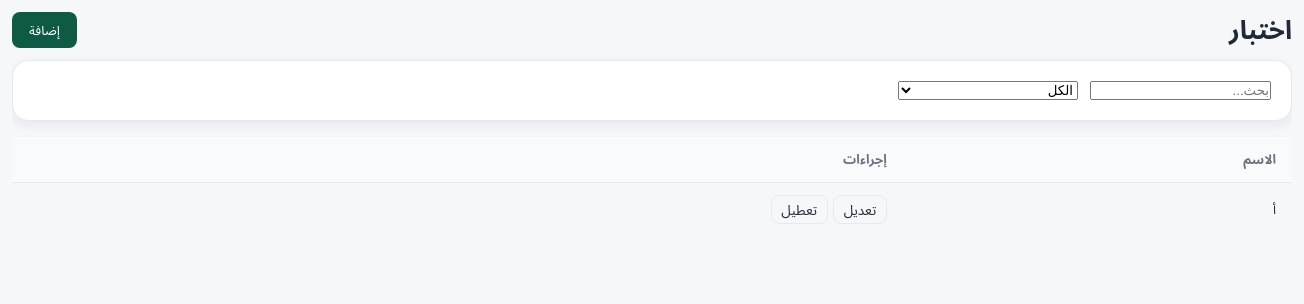
it: ReferenceDataPage › clears page error when opening edit
The width and height of the screenshot is (1304, 304).
Click the button "تعطيل".
click(799, 210)  # box [771,195,828,224]
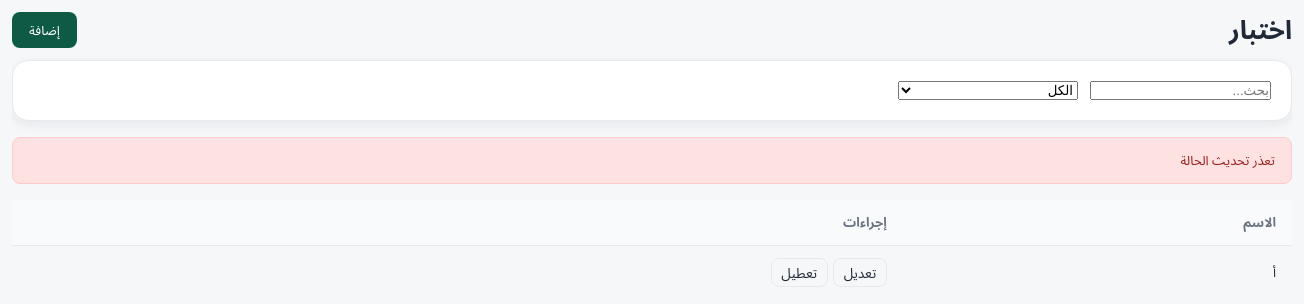
Result: the text "تعذر تحديث الحالة" is shown at [12,137,1292,184]
Click the button "تعديل".
click(860, 272)  # box [833,258,887,287]
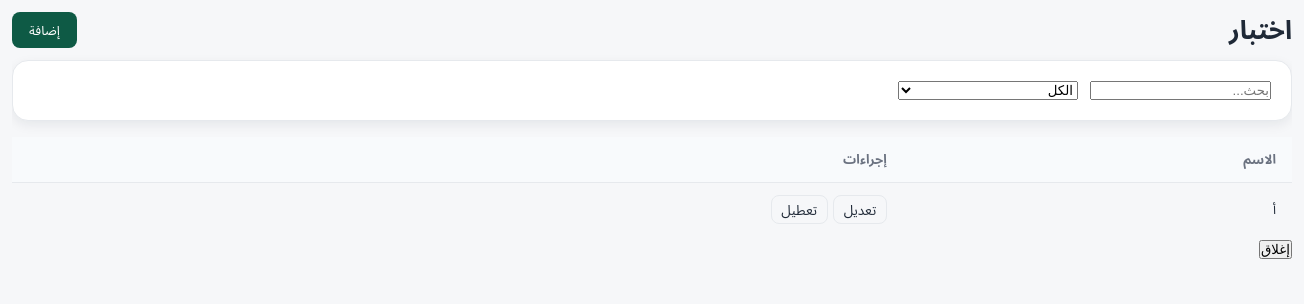
Result: the text "تعذر تحديث الحالة" is gone
